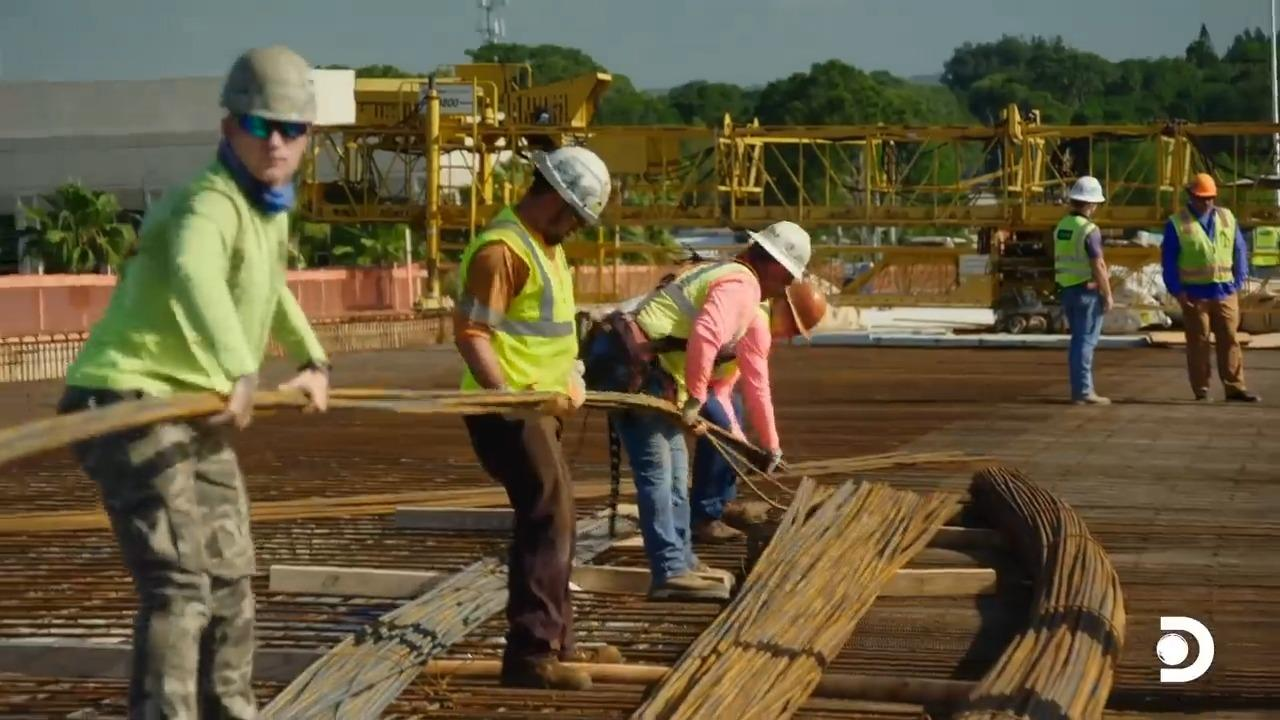Gloves: (193, 380, 249, 437), (265, 359, 334, 404), (674, 391, 704, 432), (758, 439, 787, 475)
Helmet: (219, 45, 317, 123), (530, 145, 612, 228), (745, 220, 811, 284), (792, 286, 828, 344), (1068, 175, 1106, 203), (1184, 172, 1217, 197)
Person: (55, 45, 333, 719), (451, 144, 612, 690), (602, 219, 813, 601), (1160, 172, 1261, 402), (1052, 175, 1114, 405)
Safety Boot: (641, 567, 729, 603), (509, 654, 573, 689), (693, 514, 733, 545), (570, 643, 620, 666), (1076, 395, 1117, 409), (1227, 390, 1257, 407), (1194, 387, 1209, 403)
Safety Vest: (464, 238, 566, 409), (1178, 220, 1247, 290), (1054, 225, 1108, 284)
bare-arms: (1097, 287, 1116, 318)
no-vest: (131, 206, 270, 386), (653, 283, 732, 361)
